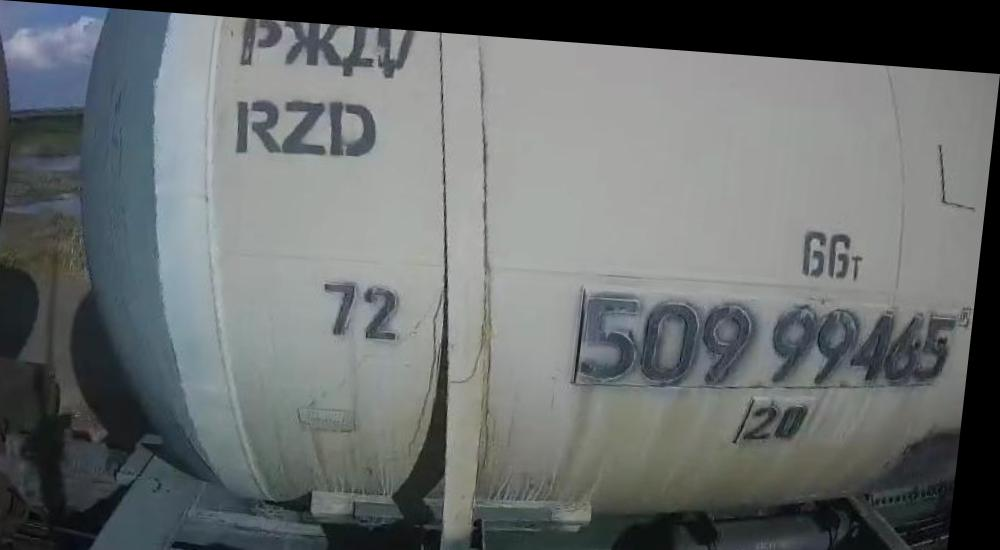Wagon-number: (578, 276, 963, 395)
